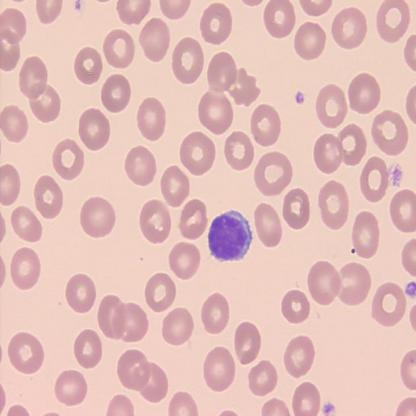Lymphocyte: (206, 208, 253, 262)
